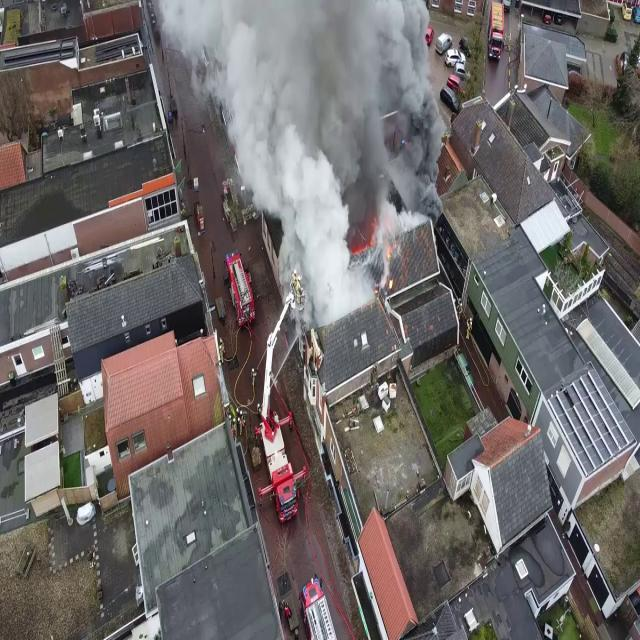Smoke: (212, 0, 445, 318)
